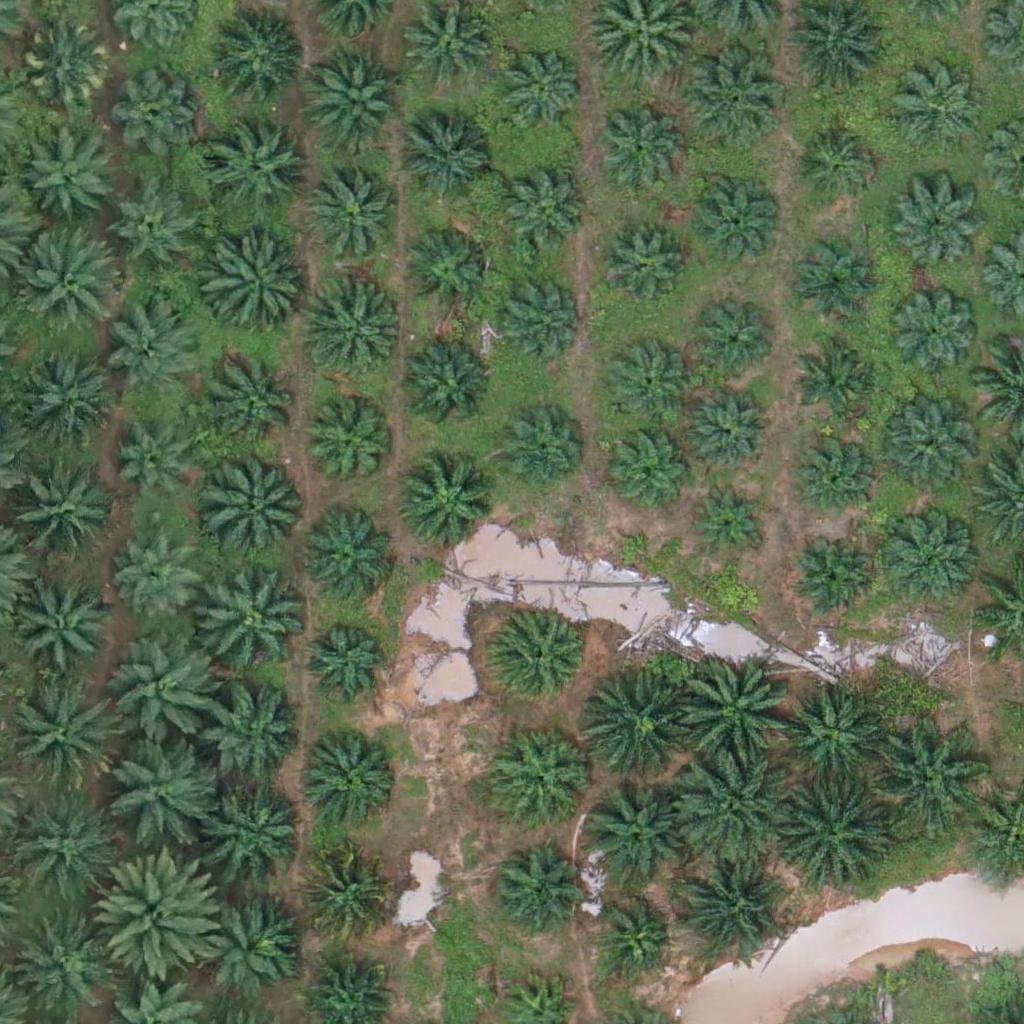Kelapa_Sawit: (99, 853, 224, 979), (773, 777, 886, 891), (101, 731, 214, 845), (2, 460, 115, 574), (3, 679, 116, 792), (7, 791, 120, 904), (580, 673, 693, 786), (195, 562, 308, 675), (108, 637, 221, 750), (201, 447, 313, 561), (873, 719, 985, 832), (681, 752, 793, 865), (680, 656, 792, 769), (15, 229, 127, 342), (581, 782, 681, 883), (301, 724, 401, 825), (208, 783, 308, 884), (11, 912, 111, 1013), (879, 402, 979, 503), (680, 48, 780, 149), (780, 683, 880, 784), (399, 106, 499, 207), (395, 338, 495, 439), (396, 454, 496, 555), (305, 282, 405, 383), (209, 10, 309, 111), (205, 122, 305, 223), (205, 238, 305, 339), (14, 576, 114, 677), (20, 127, 120, 228), (679, 857, 779, 957), (492, 725, 592, 825), (203, 690, 303, 790), (193, 890, 293, 990), (878, 508, 978, 608), (490, 610, 590, 710), (305, 49, 405, 149), (298, 510, 398, 610), (207, 354, 307, 454), (108, 298, 208, 398), (15, 354, 115, 454), (489, 842, 577, 930), (300, 848, 388, 936), (891, 188, 979, 276), (891, 289, 979, 377), (494, 41, 582, 129), (498, 169, 586, 257), (491, 271, 579, 359), (593, 219, 681, 307), (691, 174, 779, 262), (790, 537, 878, 625), (792, 120, 880, 208), (407, 2, 495, 90), (307, 404, 395, 492), (299, 617, 387, 705), (498, 406, 585, 494), (608, 423, 695, 511), (604, 338, 691, 426), (595, 102, 682, 190), (689, 299, 776, 387), (690, 383, 777, 471), (788, 427, 875, 515), (796, 330, 883, 418), (788, 233, 875, 321), (894, 65, 981, 153), (403, 224, 490, 312), (312, 168, 399, 256), (115, 70, 202, 158), (112, 187, 199, 275), (112, 431, 199, 519), (117, 536, 204, 624), (22, 23, 109, 111), (691, 480, 766, 556), (596, 899, 671, 974)
